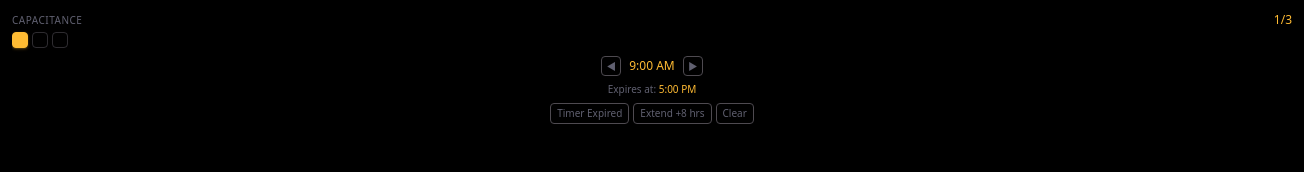
Test: SiphonCapacitanceTracker › clicking arrow adjusts time by 1 hour
The image size is (1304, 172).
Click the button named "Increase time by 1 hour".
click(693, 66)  # box [683,56,703,76]
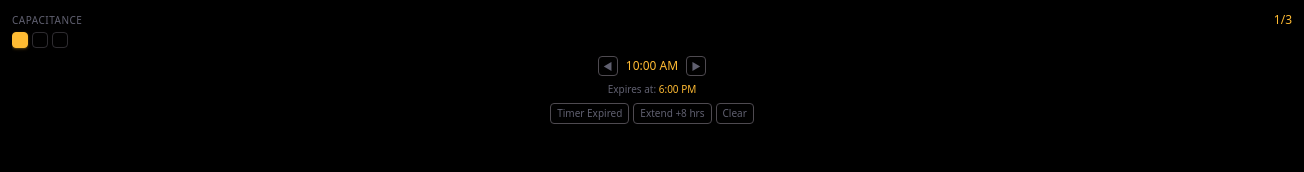
Result: the button "10:00 AM" is shown at [626,58,678,74]
Result: the text "6:00 PM" is shown at [659,82,696,96]
